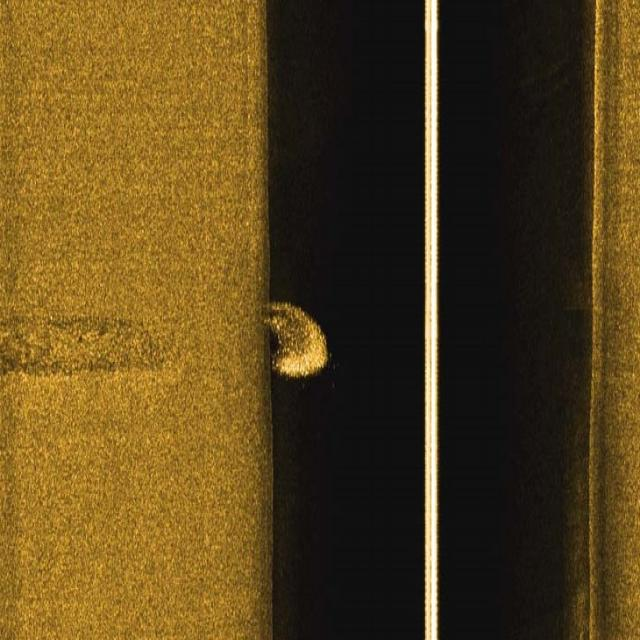other: (262, 294, 332, 378)
